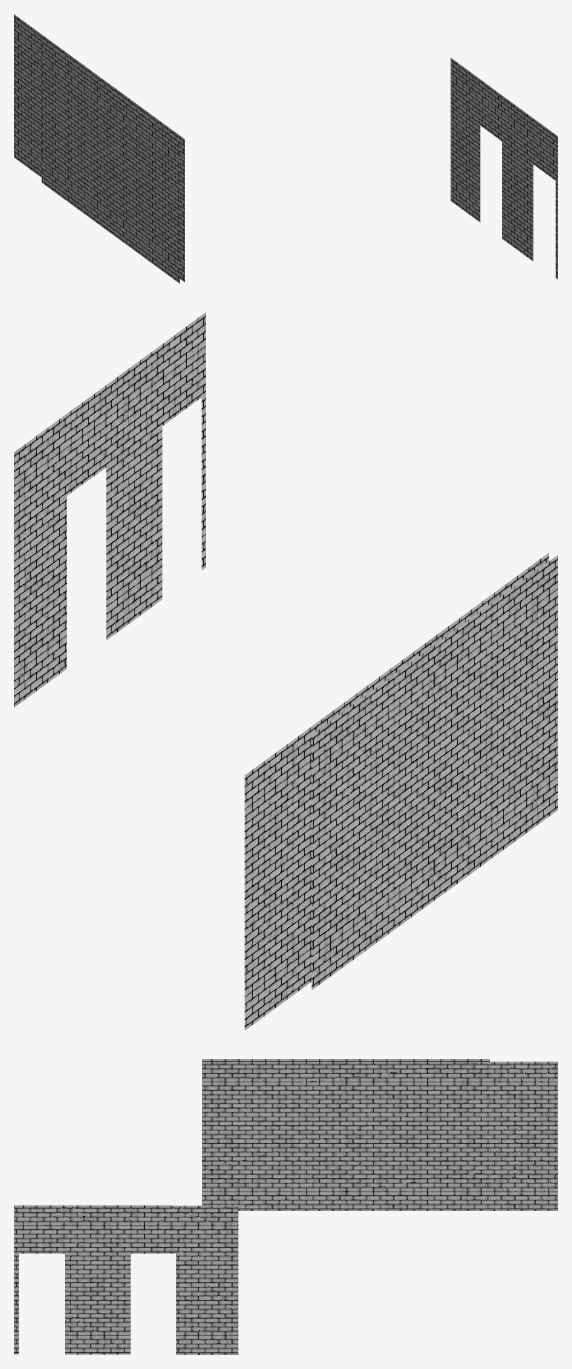
The model's file is collider_2.FBX.
3 views of the same model, one above another, from view 1: azimuth 30°, elevation 25°; view 2: azimuth 150°, elevation 25°; view 3: azimuth 270°, elevation 25° (orthographic). The views are drawn at different scales.
Parts seen in each view (by area): view 1: Object001; view 2: Object001; view 3: Object001.
Part boxes in pixels (box(x1,y1,x2,y2)): Object001: box(14, 14, 557, 283); Object001: box(14, 312, 557, 1030); Object001: box(14, 1059, 557, 1354).
Bounding box in the file's own units: 238 × 113 × 373.
